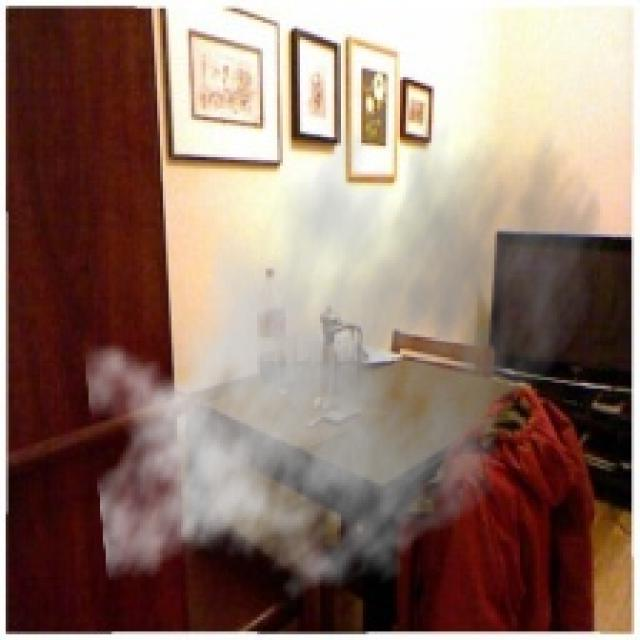smoke: (83, 80, 608, 617)
